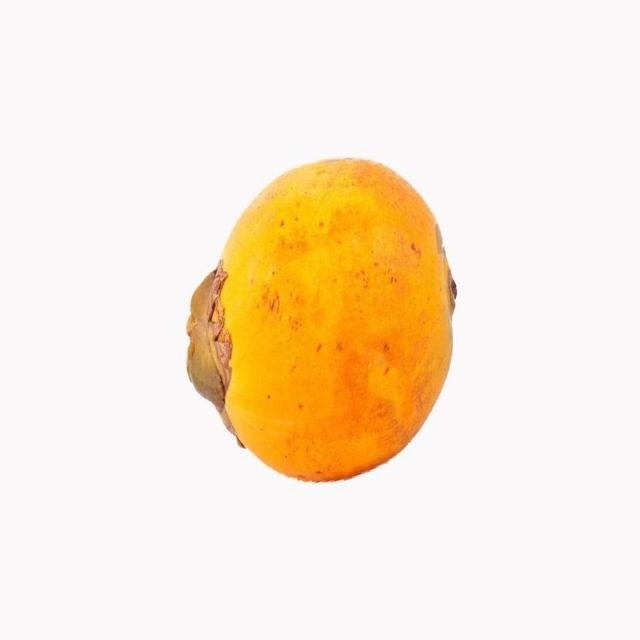good: (185, 158, 457, 485)
